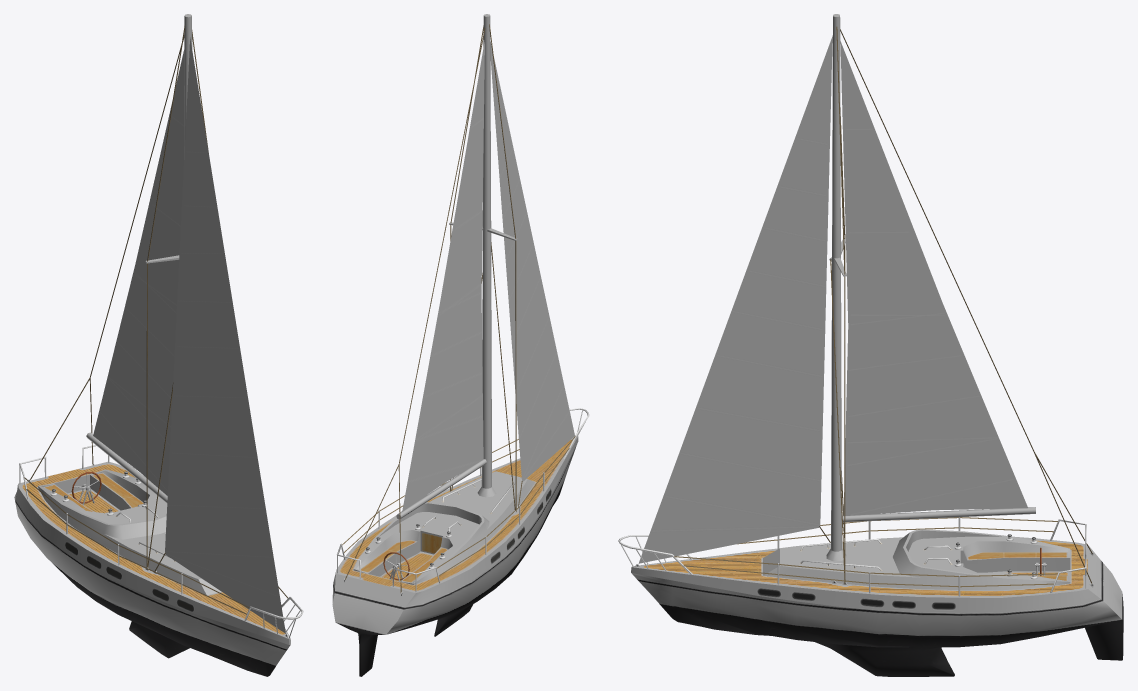
File: sailboat.glb
3 renders of one model, left to right at view 1: azimuth 30°, elevation 25°; view 2: azimuth 150°, elevation 25°; view 3: azimuth 270°, elevation 25°, orthographic. The views are drawn at different scales.
Parts seen in each view (by area): view 1: Sailboat_01 - Default_0; view 2: Sailboat_01 - Default_0; view 3: Sailboat_01 - Default_0.
Boxes of the visible parts, <box> form: Sailboat_01 - Default_0: <box>14,14,303,676</box>; Sailboat_01 - Default_0: <box>332,14,589,676</box>; Sailboat_01 - Default_0: <box>618,14,1123,676</box>.
Size of the model in its own units: 506 by 2441 by 1690.
1 material, 1 textured.
